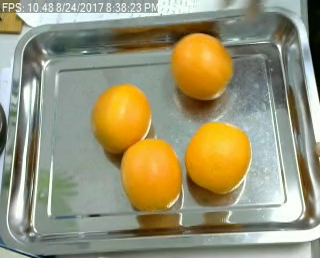Orange: (184, 121, 252, 191), (120, 139, 182, 213), (91, 83, 152, 152), (170, 33, 233, 99)
